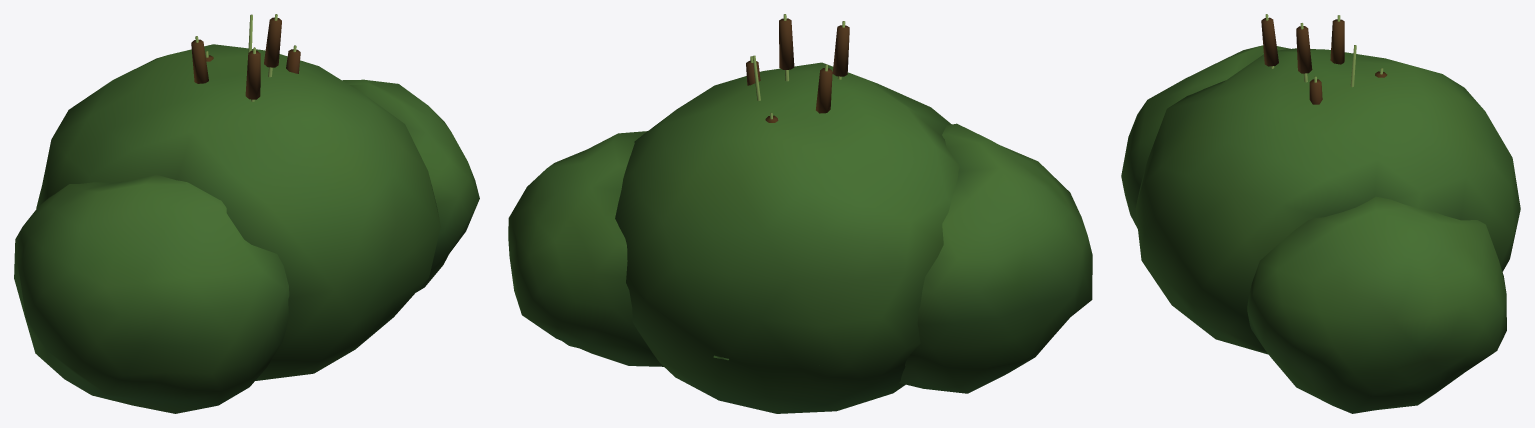
File: plantas-pantano.glb
3 views of the same model, side by side, from view 1: azimuth 30°, elevation 25°; view 2: azimuth 150°, elevation 25°; view 3: azimuth 270°, elevation 25° (orthographic). The views are drawn at different scales.
Parts seen in each view (by area): view 1: Arbusto, Juncos; view 2: Arbusto, Juncos; view 3: Arbusto, Juncos.
Boxes of the visible parts, bbox=[...] form: Arbusto: bbox=[14, 44, 479, 413]; Juncos: bbox=[191, 14, 300, 101]; Arbusto: bbox=[508, 62, 1092, 413]; Juncos: bbox=[746, 14, 849, 122]; Arbusto: bbox=[1121, 45, 1520, 413]; Juncos: bbox=[1261, 14, 1387, 104].
Bounding box in the file's own units: 4.5 × 3.12 × 3.33.
